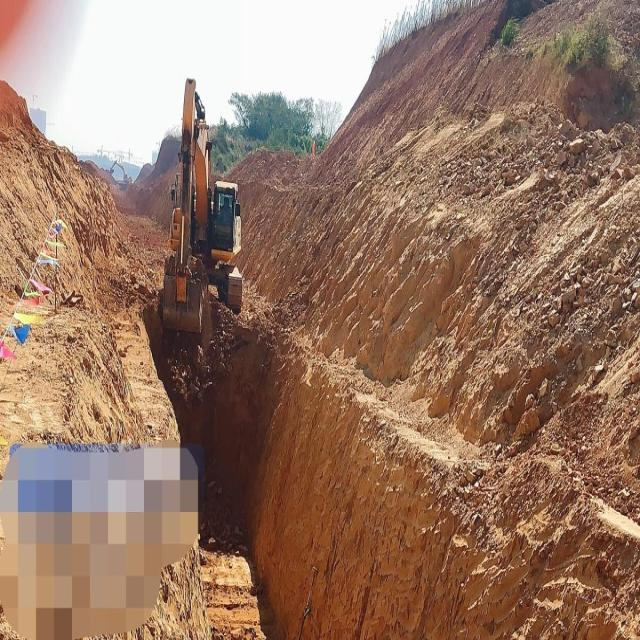excavator: (154, 73, 248, 350)
